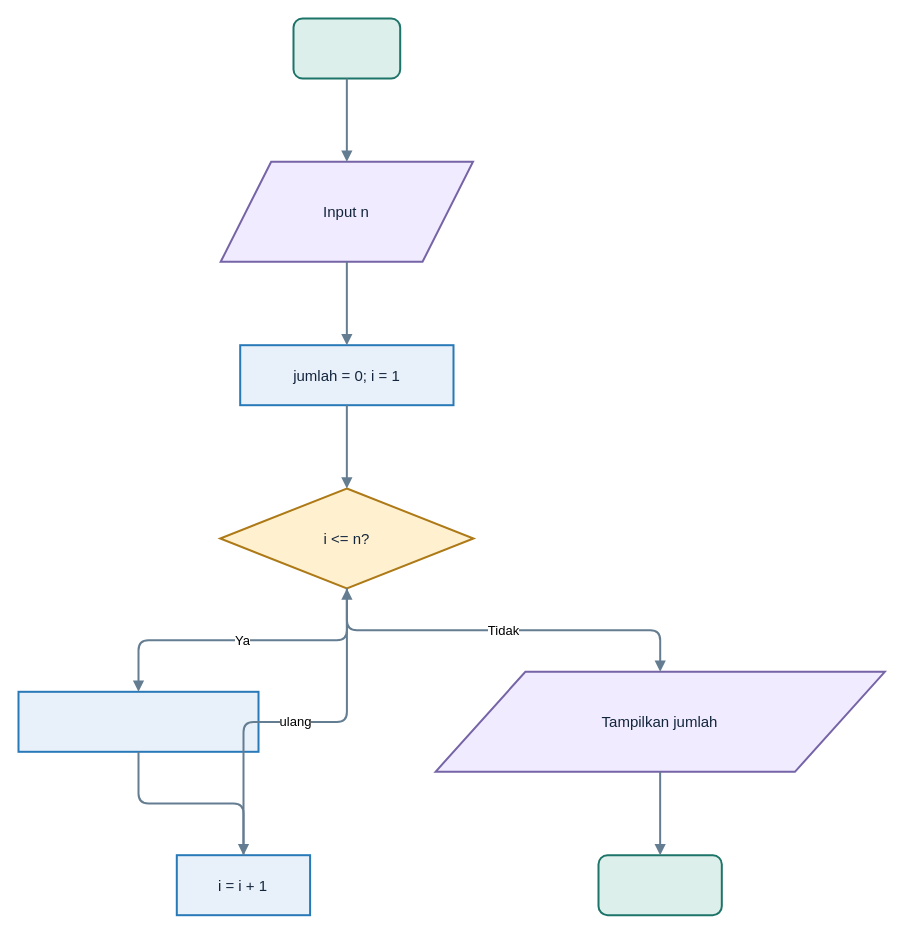
Some shapes in this 903 by 933 pixel diagram are drawn without their labels. Each missing label, with the centre of its shape:
"jumlah = jumlah + i" belongs at (x=138, y=721).
"Mulai" belongs at (x=346, y=48).
"Selesai" belongs at (x=659, y=885).
